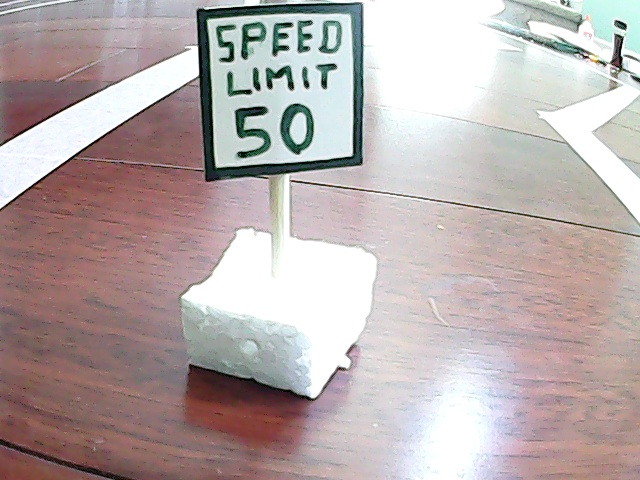speed_50: (173, 4, 396, 398)
